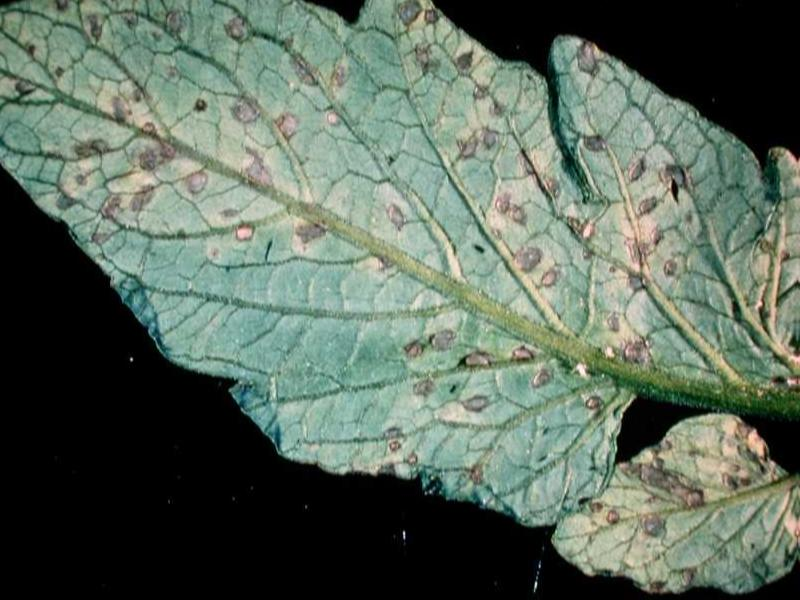Tomato Septoria leaf spot: (1, 9, 786, 561), (551, 414, 796, 588)
